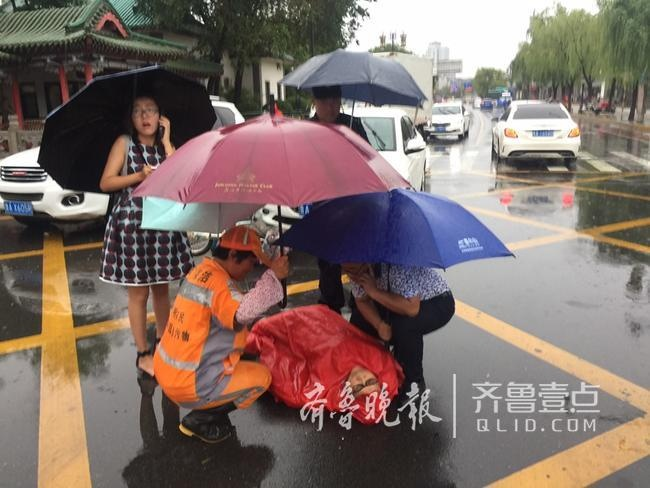falling: (244, 299, 409, 436)
